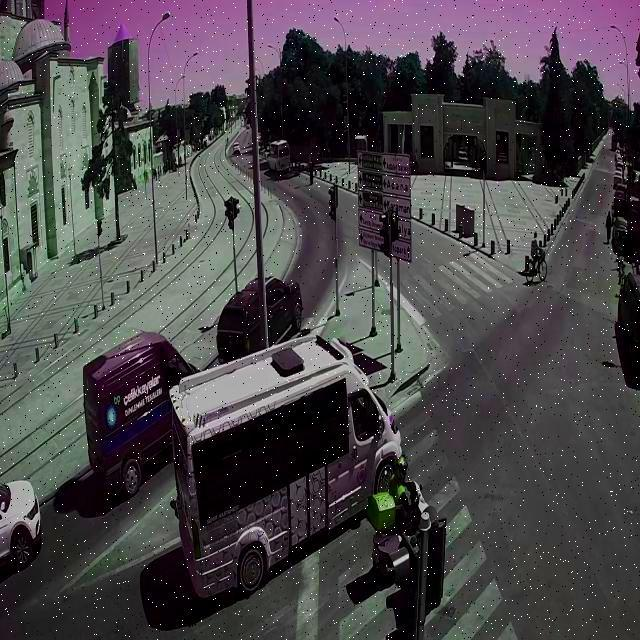Car: (214, 279, 305, 350)
Cycle: (371, 454, 435, 572)
Truck: (169, 336, 401, 605), (85, 330, 197, 501)
